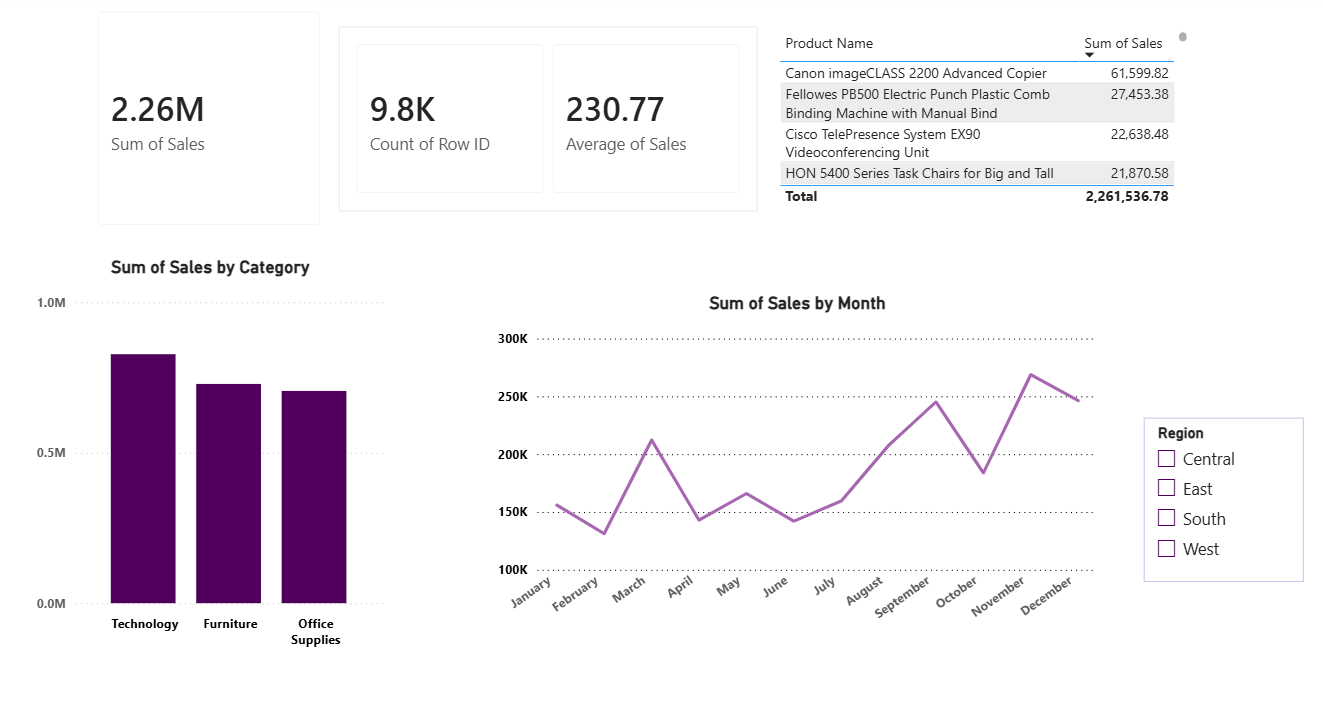

The dashboard page shown, as its layout file describes it:
{"tool":"powerbi","page":{"name":"Page 1","canvas":[1280,720],"ordinal":0},"visuals":[{"type":"cardVisual","fields":{"Data":["Sum(train.Sales)"]},"box":[77.2,0,249.7,240.1],"z":0},{"type":"clusteredColumnChart","fields":{"Category":["train.Category"],"Y":["Sum(train.Sales)"]},"box":[30.2,253.9,345.8,385.6],"z":1000},{"type":"lineChart","fields":{"Category":["train.Order Date.Variation.Date Hierarchy.Month"],"Y":["Sum(train.Sales)"]},"box":[475.3,288.3,588.7,335.4],"z":2000},{"type":"cardVisual","fields":{"Data":["CountNonNull(train.Row ID)","Avg(train.Sales)"]},"box":[326.9,31.4,404.2,178.6],"z":3000},{"type":"tableEx","fields":{"Values":["train.Product Name","Sum(train.Sales)"]},"box":[746.8,31.4,404.2,178.6],"z":3001},{"type":"slicer","fields":{"Values":["train.Region"]},"box":[1125.6,411.4,154.4,158],"z":3002}]}

Visuals, with their boxes on the page's 1280x720 design canvas (x1, y1, x2, y2). These are canvas units, not pixel positions in the 1323x705 screenshot, which may show the page scaled, cropped or inside an application window:
cardVisual - Sum(train.Sales): (77,0,327,240)
clusteredColumnChart - train.Category x Sum(train.Sales): (30,254,376,640)
lineChart - train.Order Date.Variation.Date Hierarchy.Month x Sum(train.Sales): (475,288,1064,624)
cardVisual - CountNonNull(train.Row ID) x Avg(train.Sales): (327,31,731,210)
tableEx - train.Product Name x Sum(train.Sales): (747,31,1151,210)
slicer - train.Region: (1126,411,1280,569)
